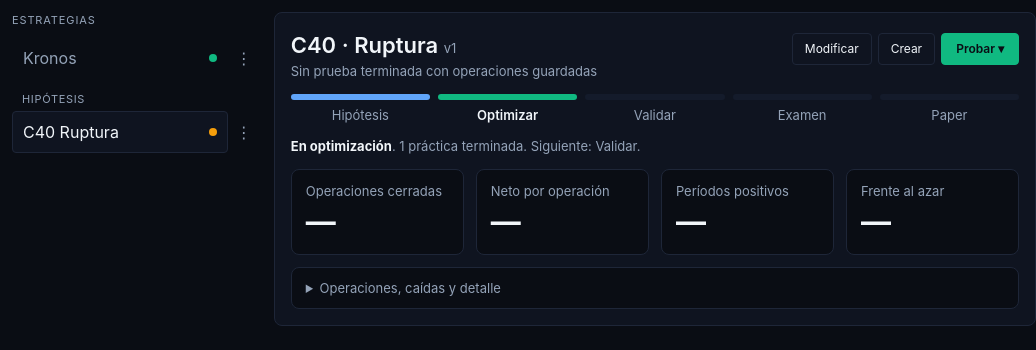
it: StrategiesPage menu › closes the options menu through escape without changing the registry
This screenshot has width=1036, height=350.
Expected: the navigation bar named "Lista de estrategias" is shown, [12,12,258,153]
Click the button named "Opciones de C40 Ruptura". click: (244, 132)
box: [230,111,258,153]
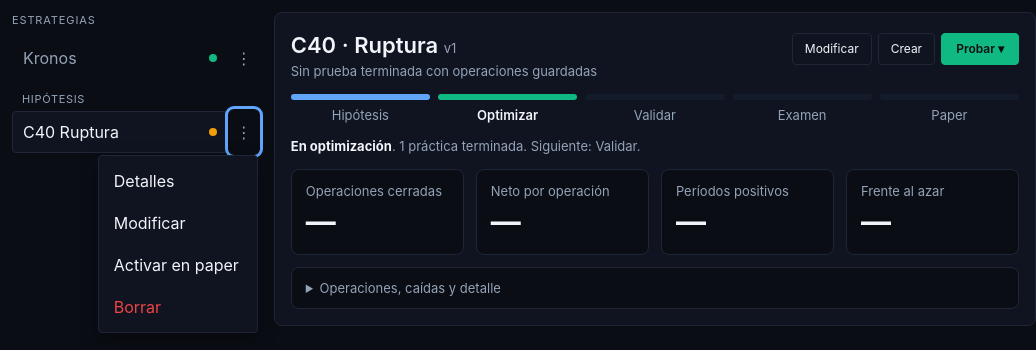
Press Escape
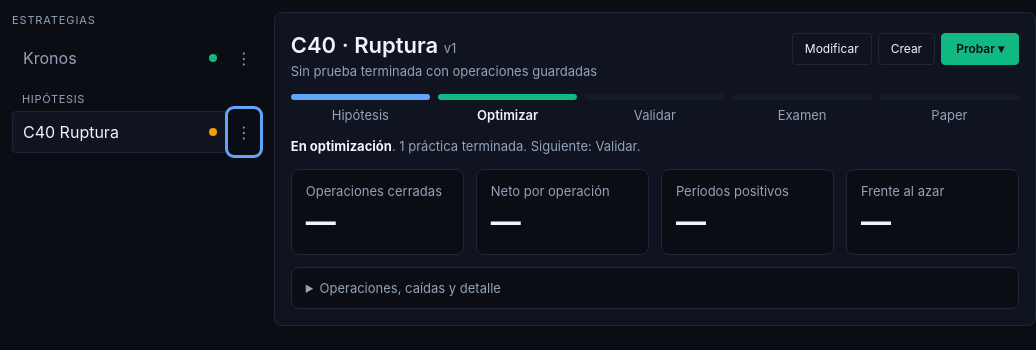
Now the menu is gone
